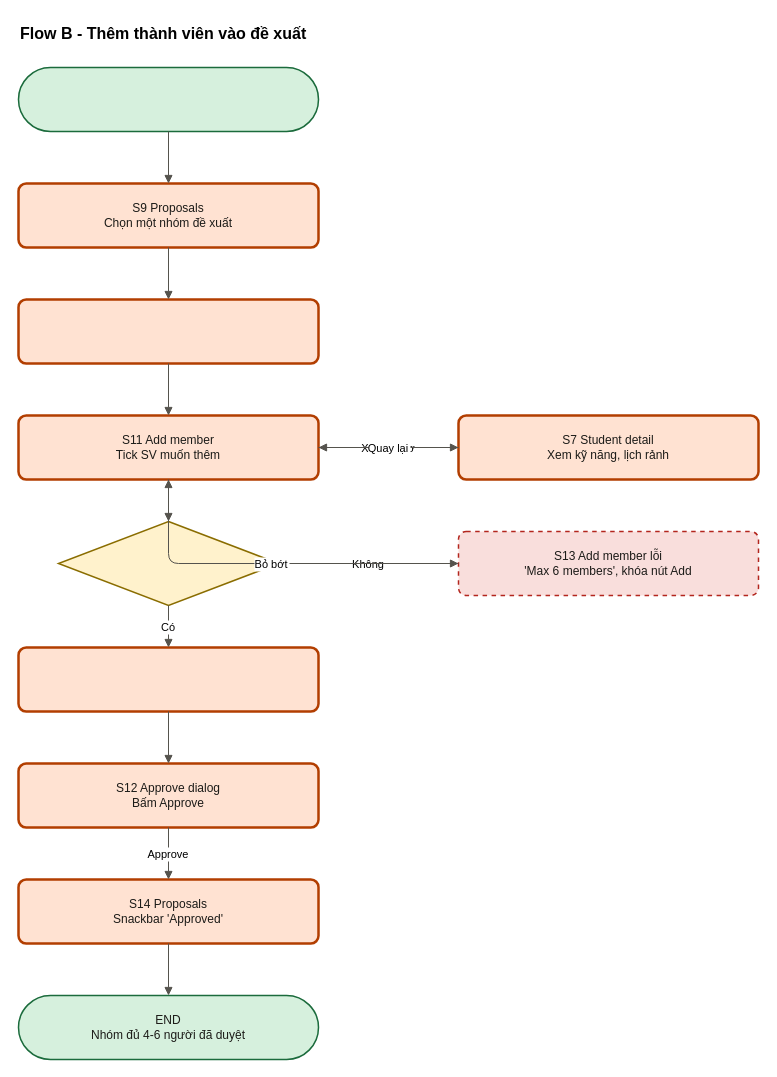
The diagram is 777 pixels wide and 1077 high, and some of its shapes have lost their labels. The centre of each missing label's shape, as x and y in pixels:
"S10 Proposal detail Bấm Add member" goes at point (168, 331).
"S10 Proposal detail Đã cập nhật thành viên" goes at point (168, 679).
"START Mentor mở tab Proposals" goes at point (168, 99).
"Tổng ≤ 6 người?" goes at point (168, 563).
